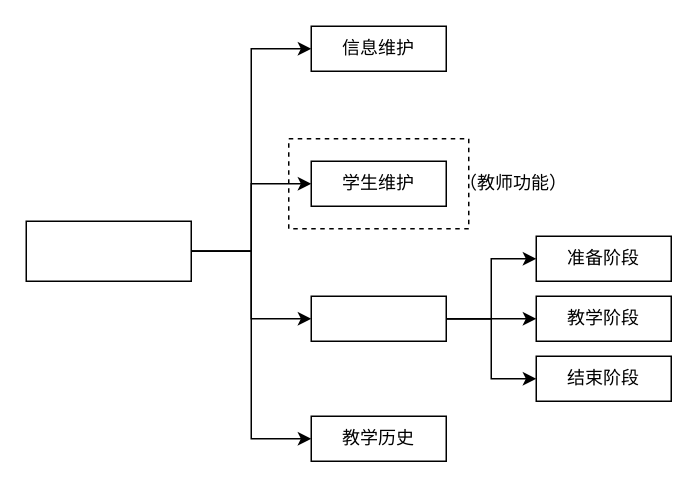
Image size: 698x488. Some labels were removed from this diagram. Here are the shapes that lost their labels. From the top down, the centre of each, then its label:
At (108,250): "在线教学系统".
At (378,318): "在线教学".
